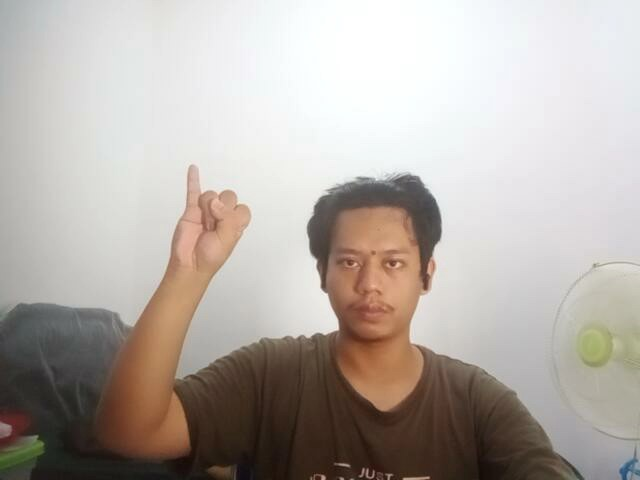I: (150, 157, 267, 282)
